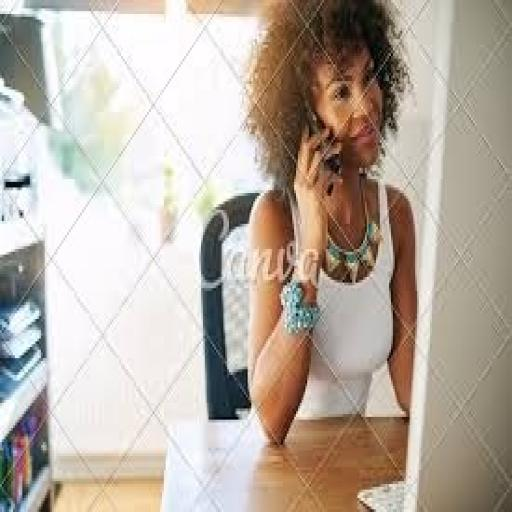texting: (238, 0, 419, 448)
